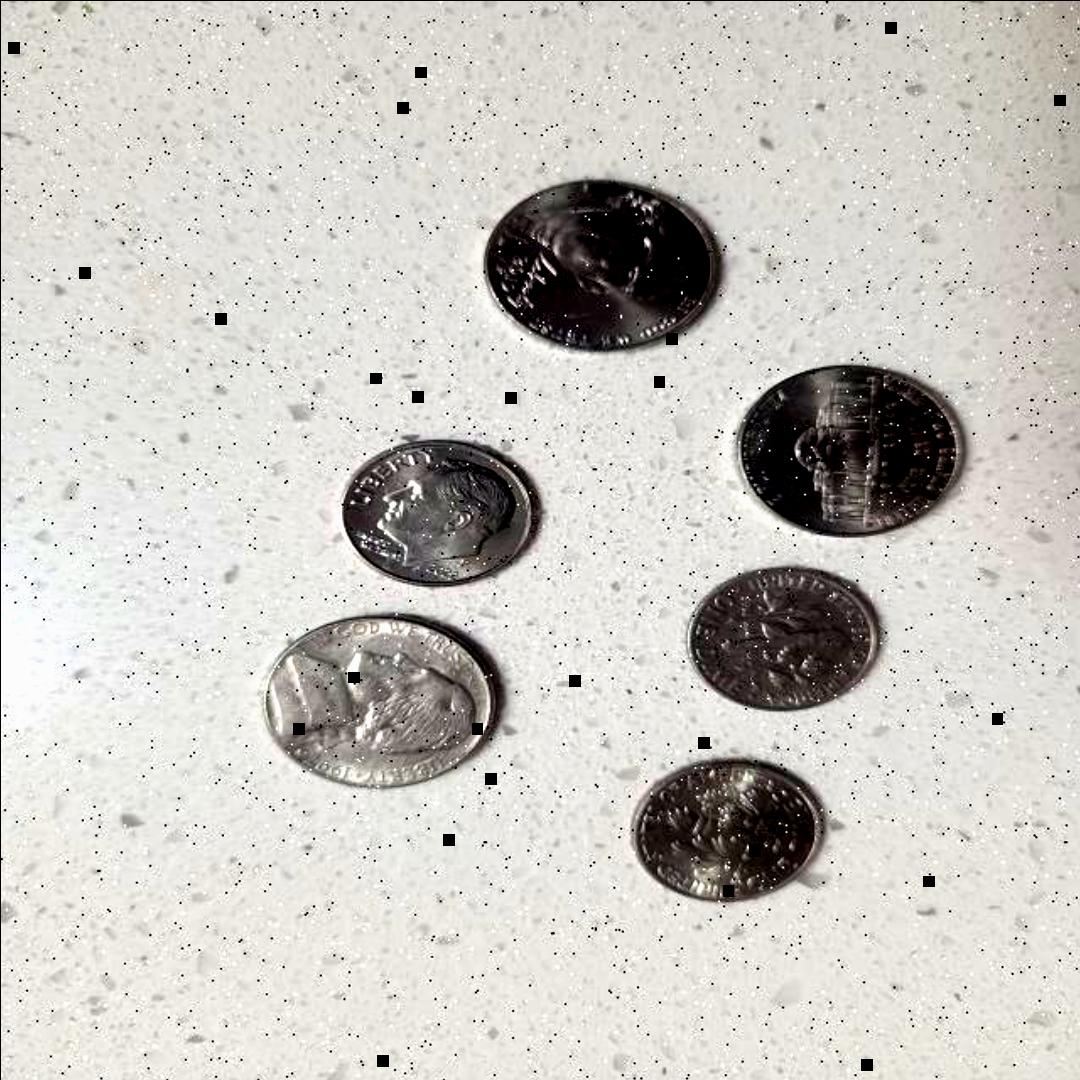Dime: (621, 750, 835, 918), (331, 439, 545, 592), (676, 566, 884, 722)
Nickel: (228, 604, 500, 794), (721, 360, 979, 546), (479, 175, 725, 355)
